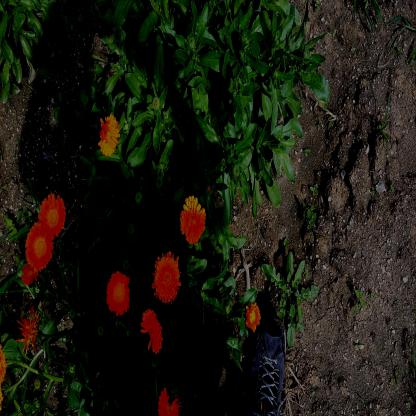marigold: (153, 251, 181, 305), (178, 195, 206, 245), (25, 221, 53, 270), (38, 192, 65, 238), (105, 269, 130, 316), (140, 306, 163, 354), (97, 112, 120, 156), (244, 298, 261, 332), (21, 260, 39, 284)
